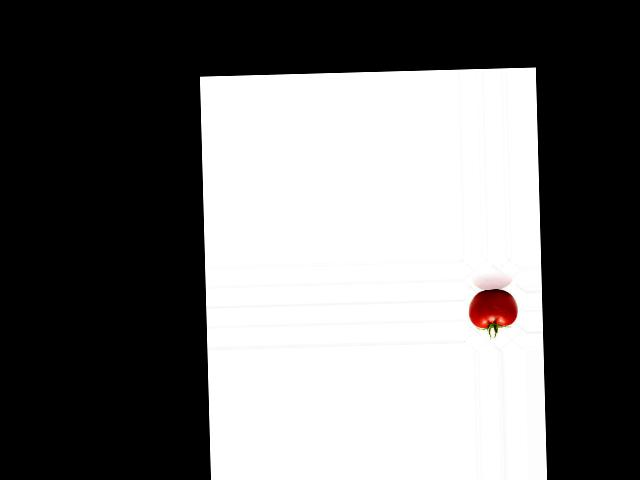tomato: (468, 289, 518, 328)
